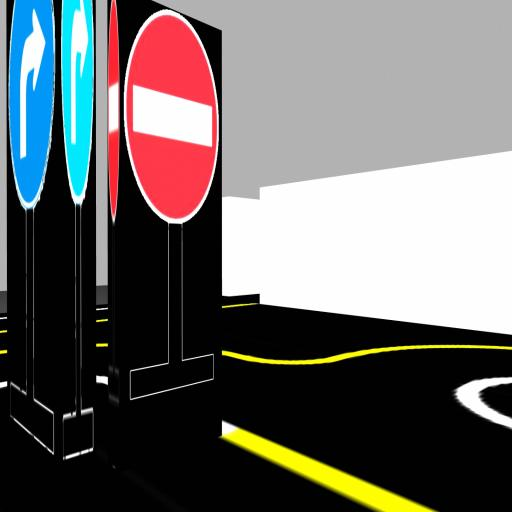Do Not Enter: (123, 11, 219, 224), (111, 2, 117, 210)
Right Turn: (8, 0, 55, 209), (61, 0, 94, 204)
